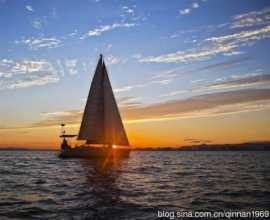fanchuan: (55, 51, 144, 160)
